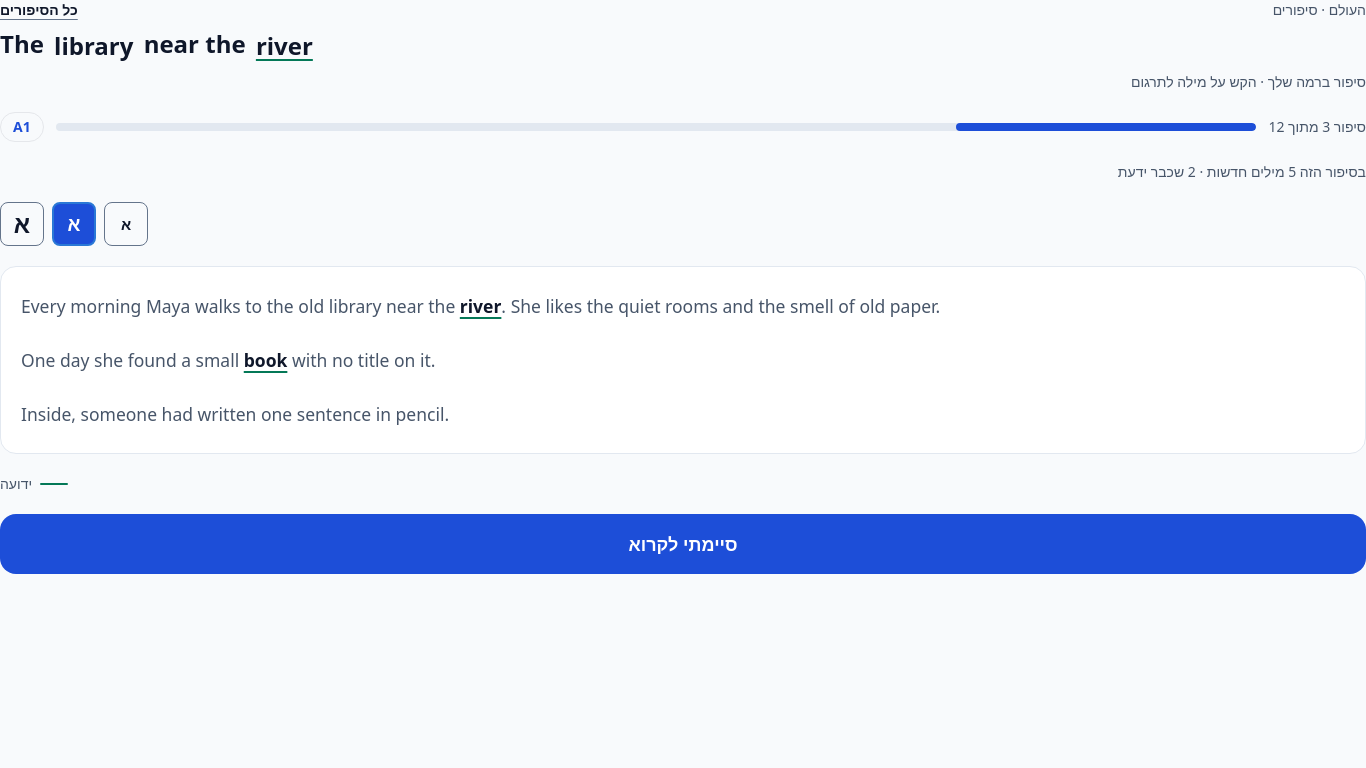
it: T-238ⓑ — הפופאובר בסיפור מדווח מה שקרה באמת (D-183) › הכתיבה חוזרת ok:false — FAILURE_HE.save + כפתור RETRY_HE, ⛔ לעולם ⛔ לא «נוספה לחזרה»
Click the button "library" in the row of "to" at (355, 306), box top-left (321, 279), bottom-right (389, 333)
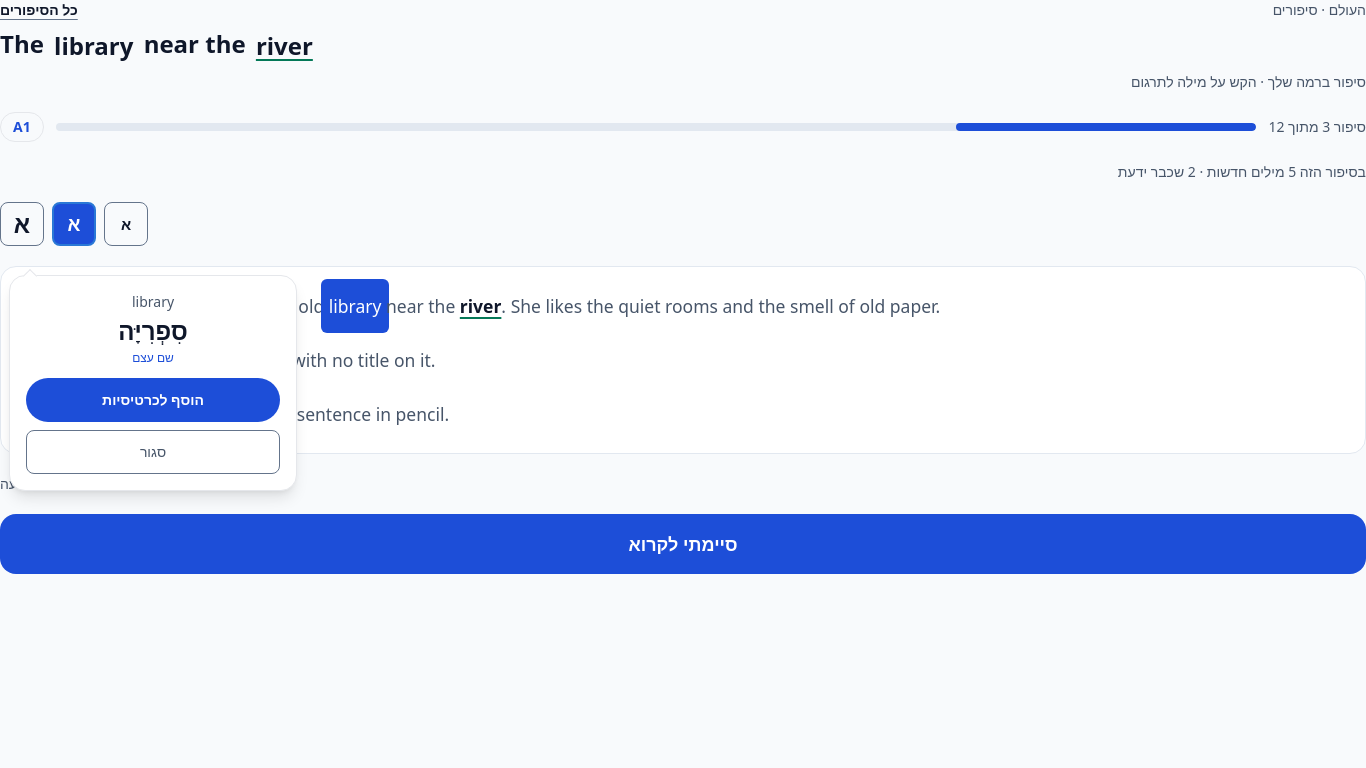
Click the button "הוסף לכרטיסיות" at (153, 400), box top-left (26, 378), bottom-right (280, 422)
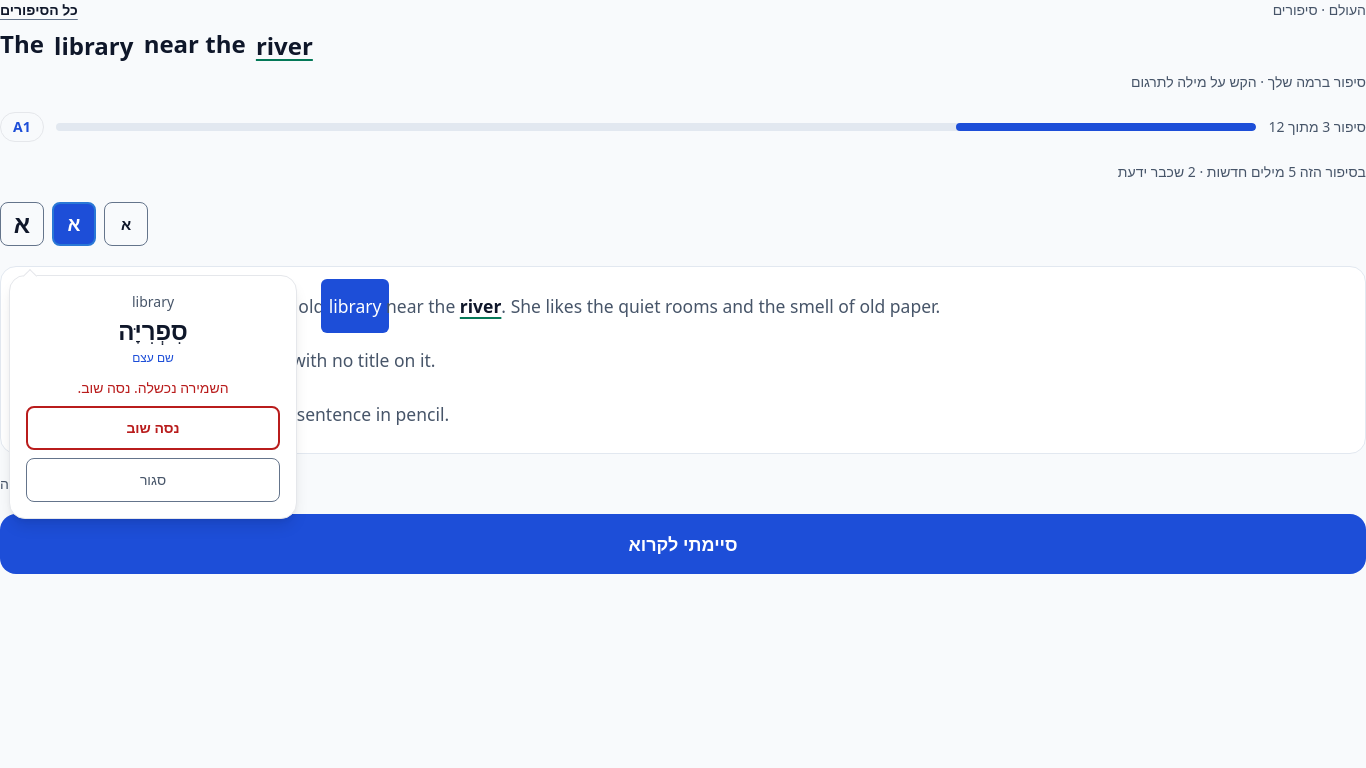
Check: the text "השמירה נכשלה. נסה שוב." is shown, box top-left (78, 378), bottom-right (229, 397)
Check: the button "נסה שוב" is shown, box top-left (26, 406), bottom-right (280, 450)
